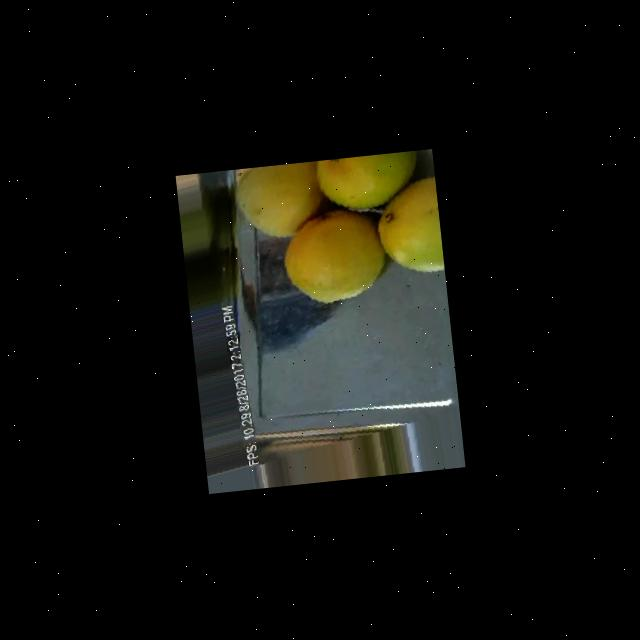Mango: (278, 205, 389, 308), (232, 160, 327, 241), (372, 176, 444, 276), (314, 150, 422, 212)
